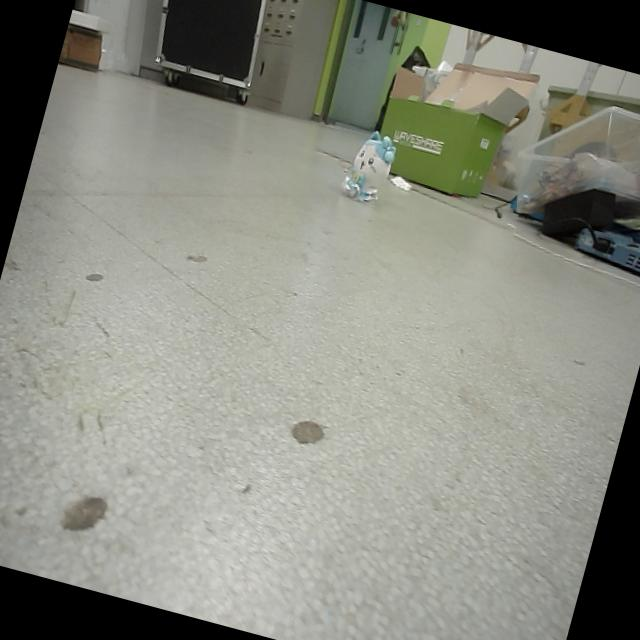xiaoba: (336, 124, 400, 210)
